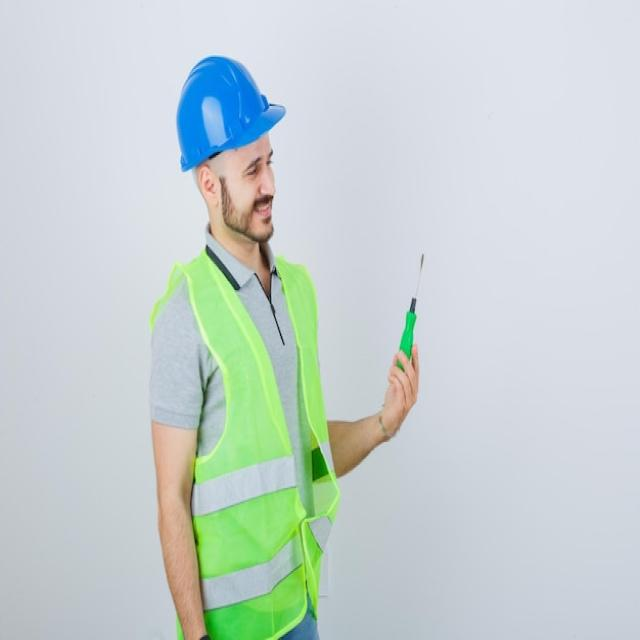helmet: (174, 48, 296, 184)
no-goggles: (210, 152, 285, 186)
vest: (135, 221, 371, 640)
